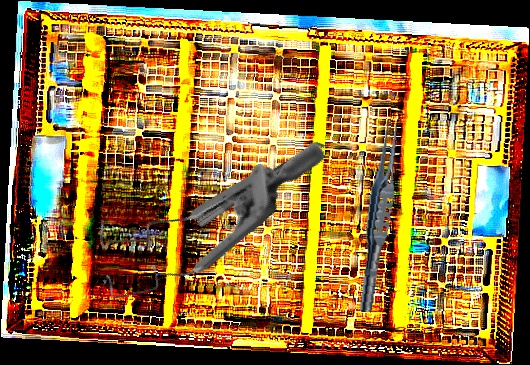Fixation Ring: (195, 136, 333, 239)
Speculum: (70, 70, 329, 357)
Tissue Forceps: (355, 119, 404, 314)
